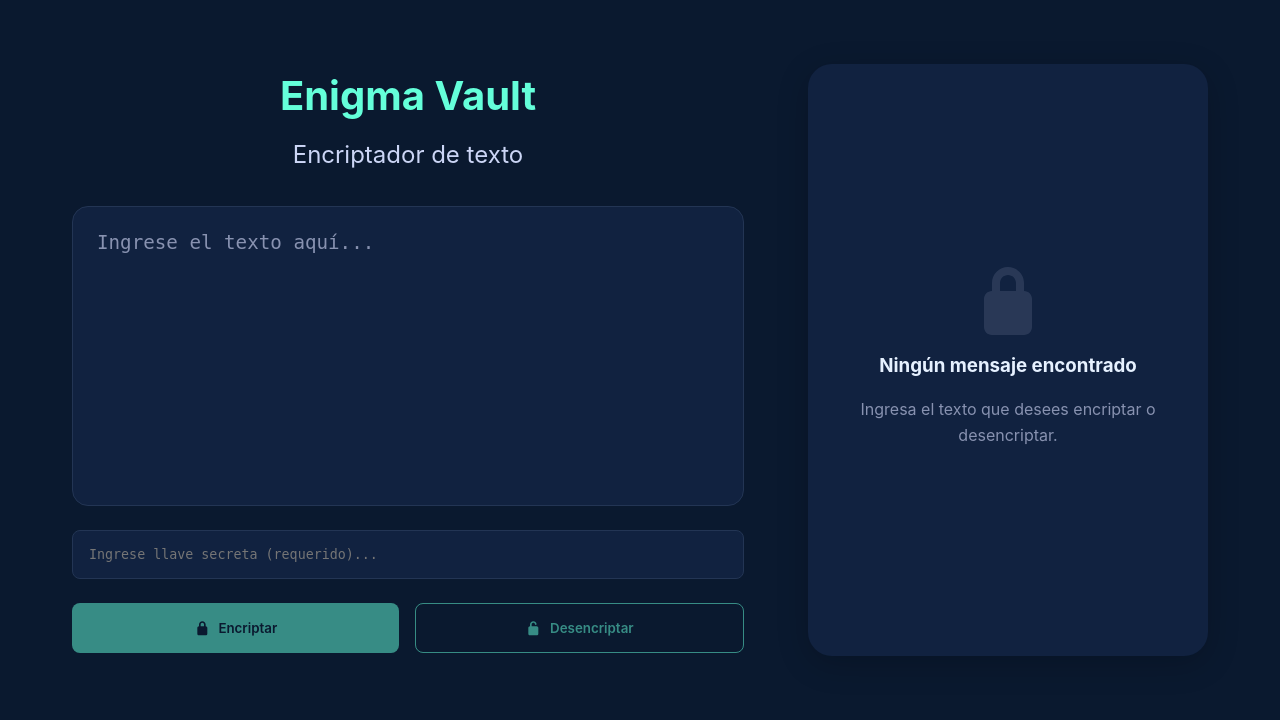
App Principal › debería desencriptar el texto correctamente
The width and height of the screenshot is (1280, 720).
Step 1. Type "encrypted_data" into the text box with placeholder "Ingrese el texto aquí..." → (408, 356), box [72, 206, 744, 506]
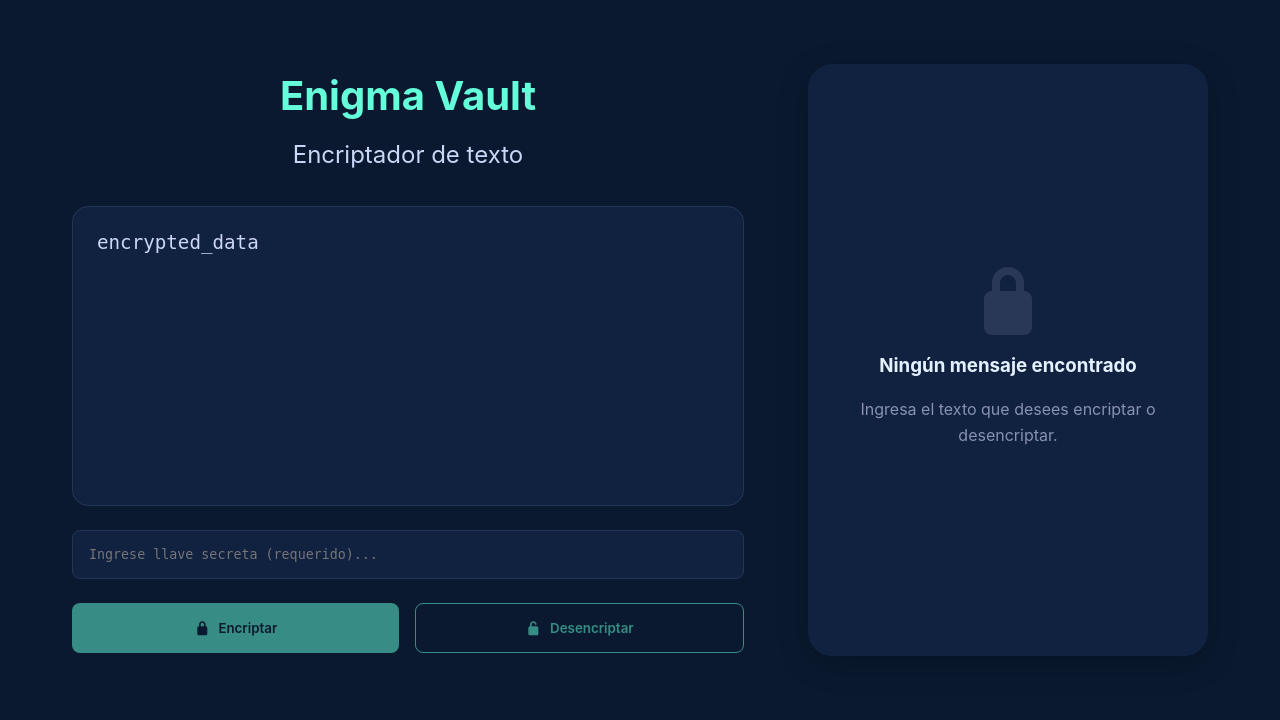
Step 2. Type "key123" into the field with placeholder "Ingrese llave secreta (requerido)..." → (408, 555), box [72, 530, 744, 579]
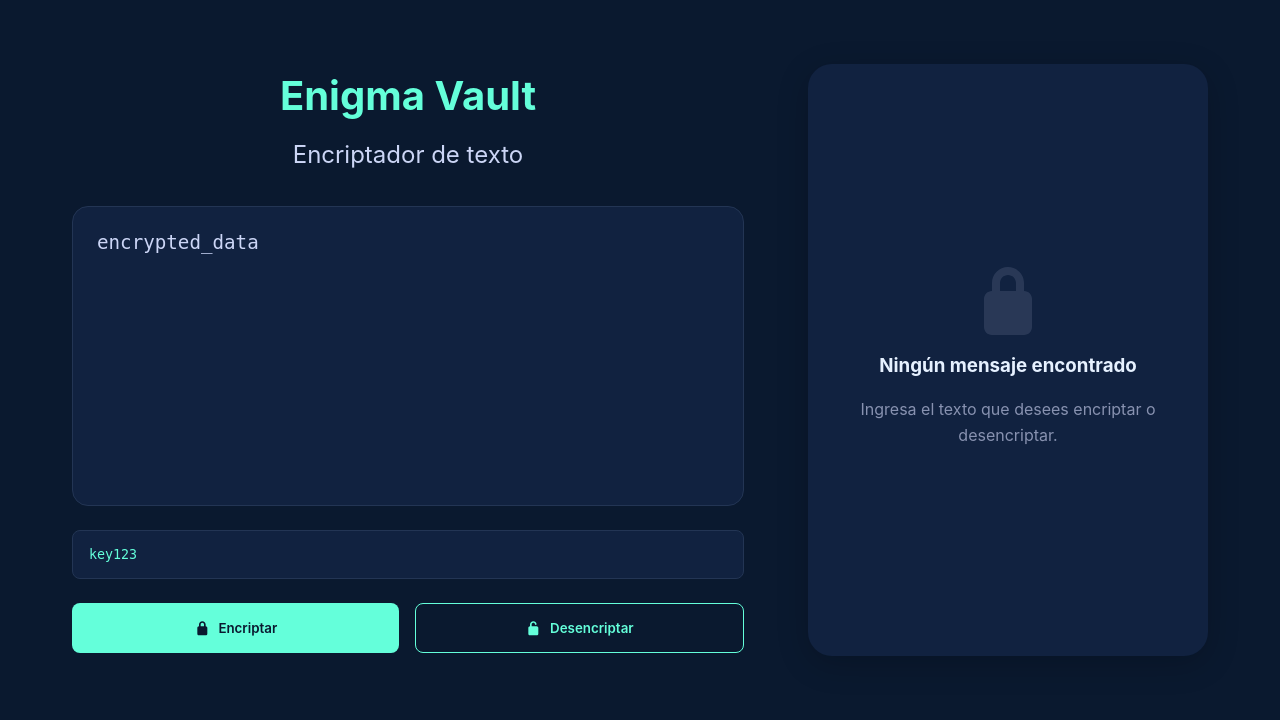
Step 3. Click the button "Desencriptar" → (580, 628), box [415, 603, 744, 653]
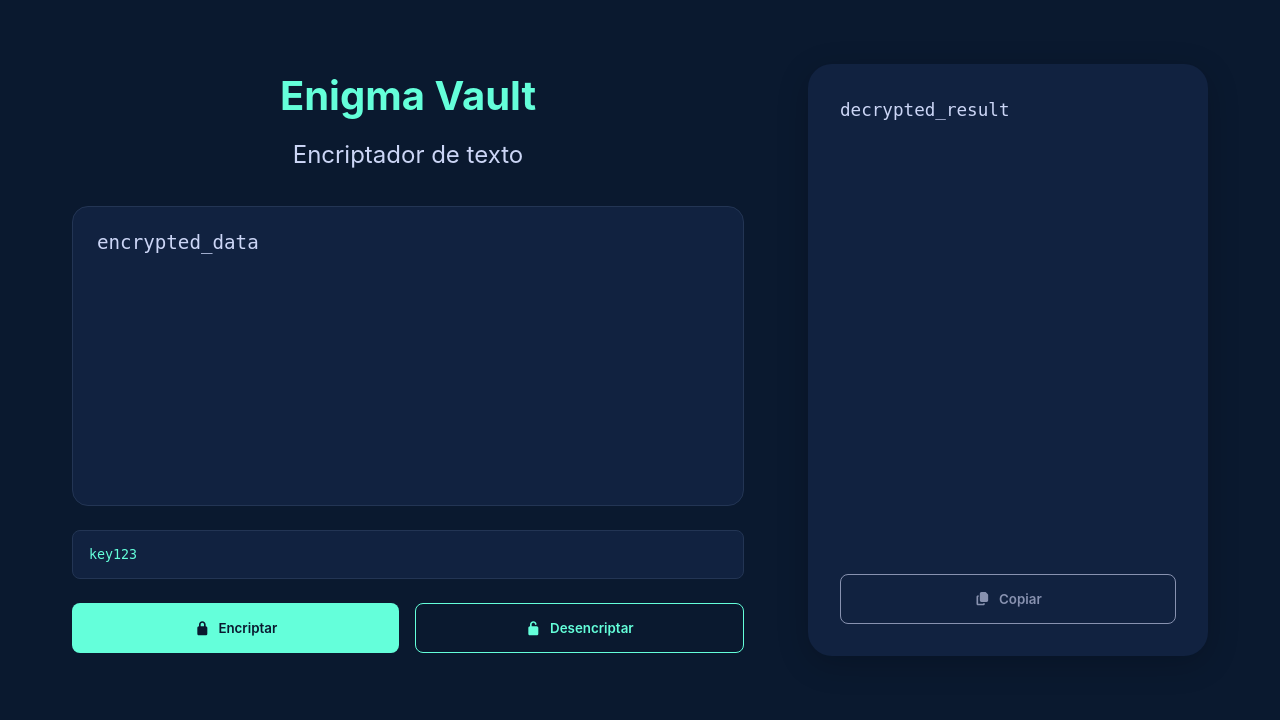
Expected: the text "decrypted_result" is shown, [840, 100, 1010, 120]
